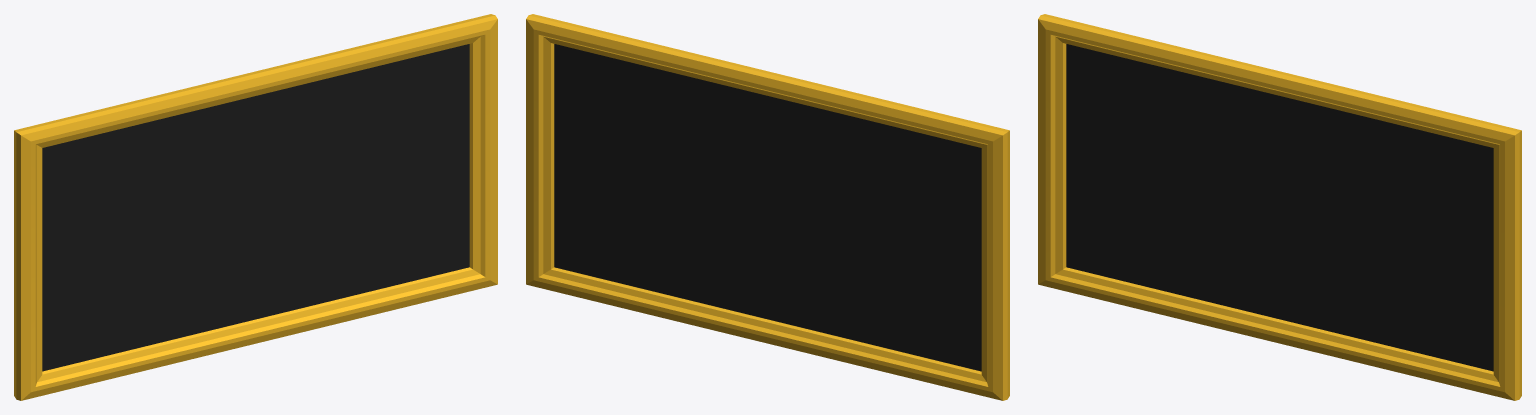
The model's file is Mirror.glb.
3 renders of one model, left to right at view 1: azimuth 30°, elevation 25°; view 2: azimuth 150°, elevation 25°; view 3: azimuth 330°, elevation 25°, orthographic.
Visible parts, largest first — view 1: Mirror; view 2: Mirror; view 3: Mirror.
Boxes of the visible parts, <box> form: Mirror: <box>14,14,497,400</box>; Mirror: <box>526,14,1009,400</box>; Mirror: <box>1038,14,1521,400</box>.
Size of the model in its own units: 1.5 by 0.8 by 0.05.
